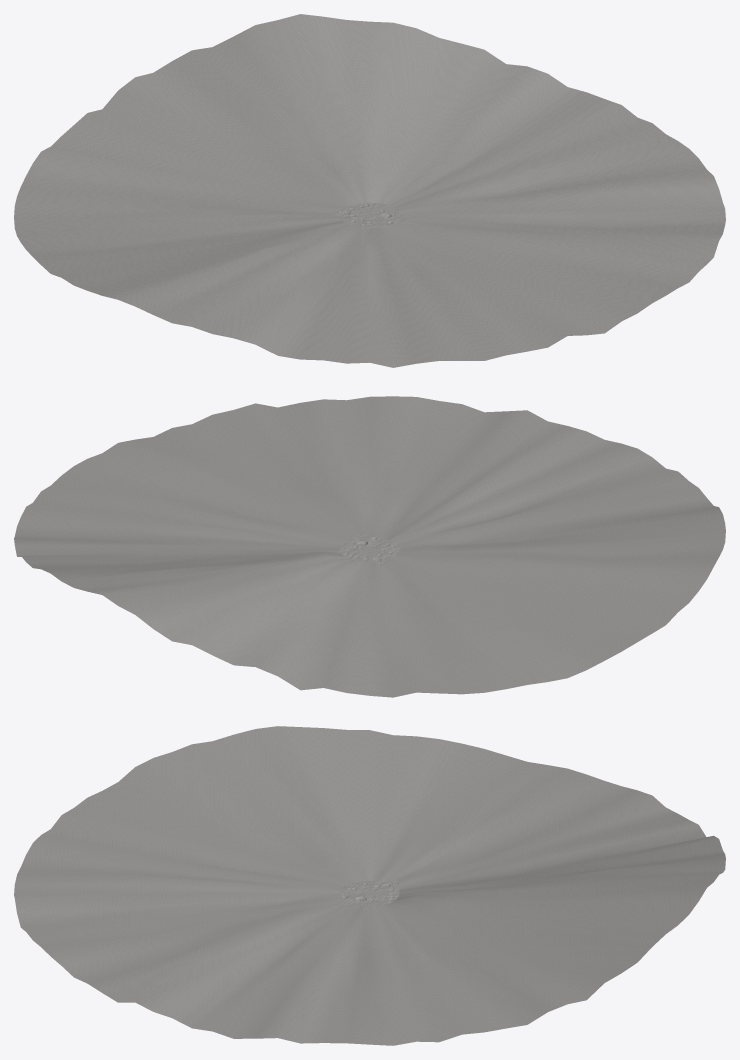
File: LunarHabitat_Unity3_Terrain.fbx
The picture shows the model from 3 angles, top to bottom: view 1: azimuth 30°, elevation 25°; view 2: azimuth 150°, elevation 25°; view 3: azimuth 270°, elevation 25°; orthographic projection.
Parts seen in each view (by area): view 1: T02_Terrain_Far_Horizon, T01_Terrain_Near_400m; view 2: T02_Terrain_Far_Horizon, T01_Terrain_Near_400m; view 3: T02_Terrain_Far_Horizon, T01_Terrain_Near_400m.
Part boxes in pixels (<box>): T02_Terrain_Far_Horizon: <box>14,14,725,367</box>; T01_Terrain_Near_400m: <box>330,202,409,230</box>; T02_Terrain_Far_Horizon: <box>14,396,725,697</box>; T01_Terrain_Near_400m: <box>338,533,402,566</box>; T02_Terrain_Far_Horizon: <box>14,726,725,1045</box>; T01_Terrain_Near_400m: <box>340,880,399,905</box>.
Size of the model in its own units: 480000 by 44936 by 480000.
